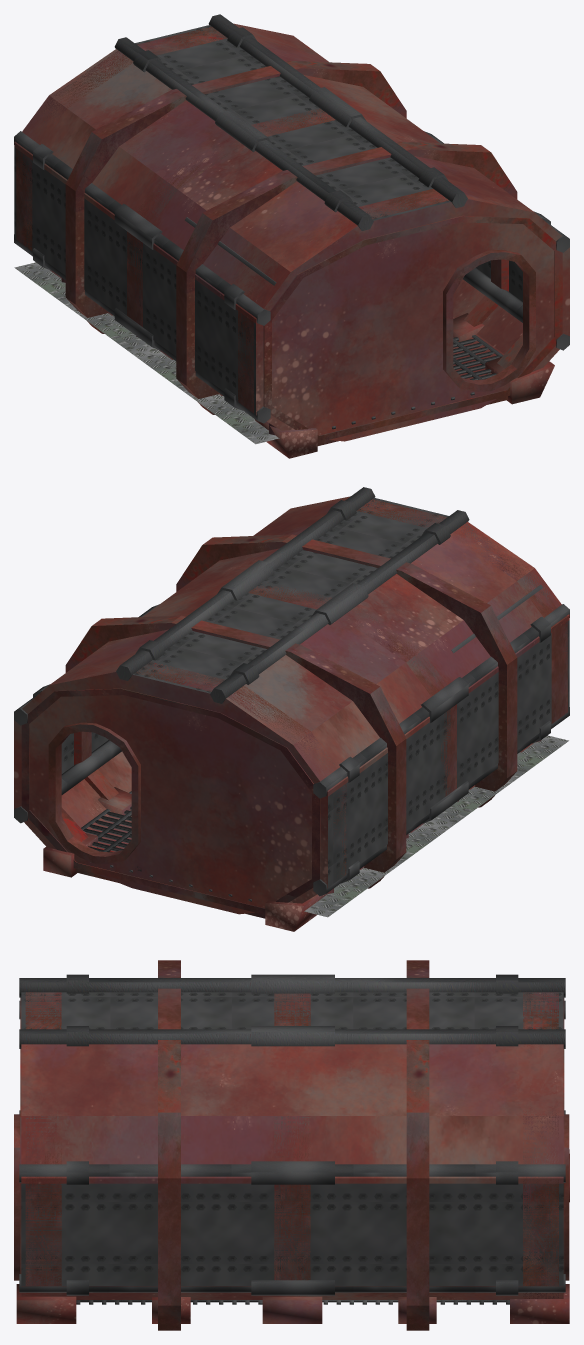
File: Rest_Room.obj
The picture shows the model from 3 angles, top to bottom: view 1: azimuth 30°, elevation 25°; view 2: azimuth 150°, elevation 25°; view 3: azimuth 270°, elevation 25°; orthographic projection. The views are drawn at different scales.
Parts seen in each view (by area): view 1: Cube.017; view 2: Cube.017; view 3: Cube.017.
Boxes of the visible parts, x1=… form: Cube.017: x1=14, y1=14, x2=569, y2=458; Cube.017: x1=14, y1=487, x2=569, y2=931; Cube.017: x1=14, y1=960, x2=569, y2=1330.
Size of the model in its own units: 6.32 by 4.43 by 8.2.
8 materials, 8 textured.
